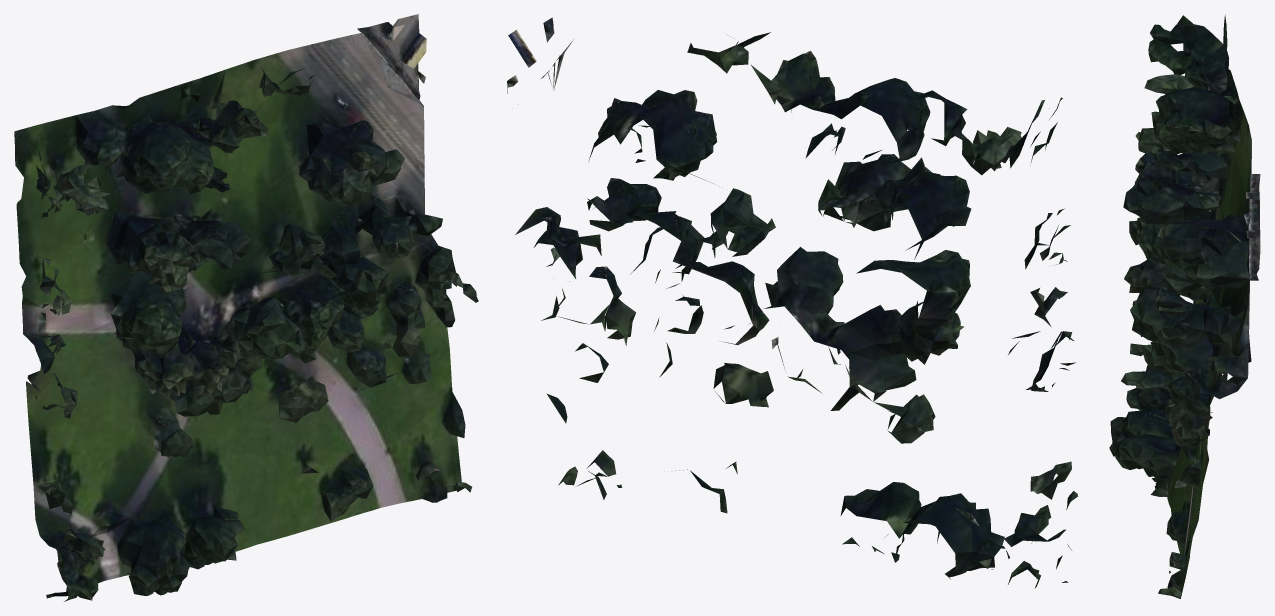
File: Tile_+036_+017_L17_0003.glb
3 views of the same model, side by side, from view 1: azimuth 30°, elevation 25°; view 2: azimuth 150°, elevation 25°; view 3: azimuth 270°, elevation 25° (orthographic). The views are drawn at different scales.
Bounding box in the file's own units: 126 × 126 × 43.03.
Materials: 1 (1 with a texture image).
